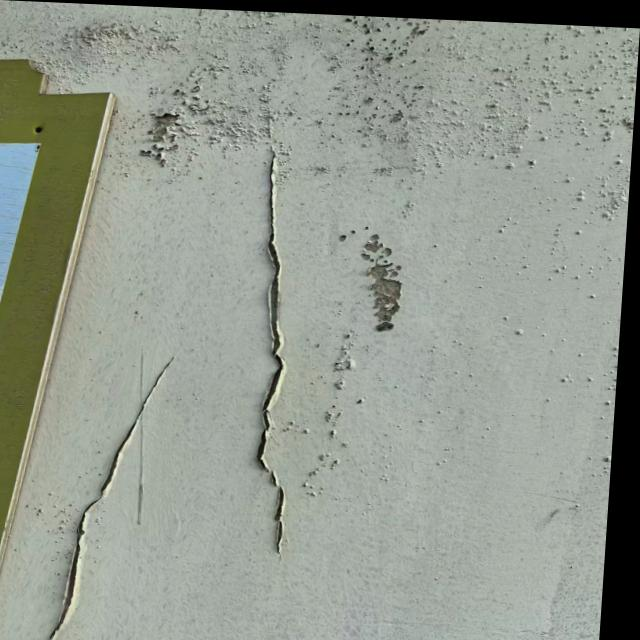crack: (41, 350, 184, 640), (234, 122, 319, 562)
spalling: (143, 65, 252, 180), (352, 229, 412, 338)
